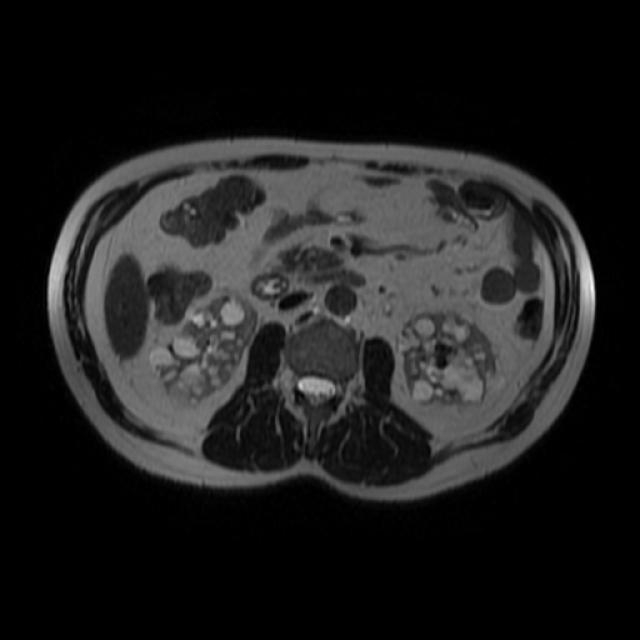sag: (148, 291, 256, 407)
sol: (397, 311, 498, 408)
